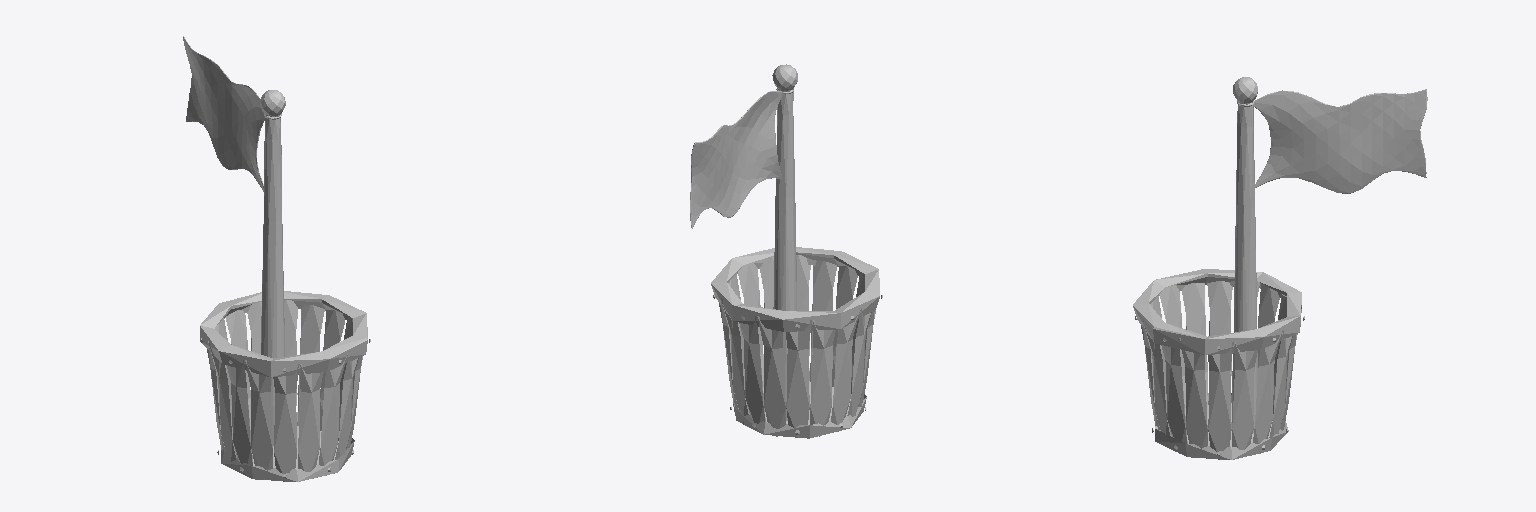
Rendered from middle_pirate_pole.obj.
The picture shows the model from 3 angles: view 1: azimuth 30°, elevation 25°; view 2: azimuth 150°, elevation 25°; view 3: azimuth 270°, elevation 25°; orthographic projection.
Visible parts, largest first — view 1: Mesh; view 2: Mesh; view 3: Mesh.
Part boxes in pixels (x1,y1,x2,y2): Mesh: (183,36,370,481); Mesh: (690,64,882,438); Mesh: (1133,77,1427,459).
Bounding box in the file's own units: 10.96 × 24.82 × 18.72.